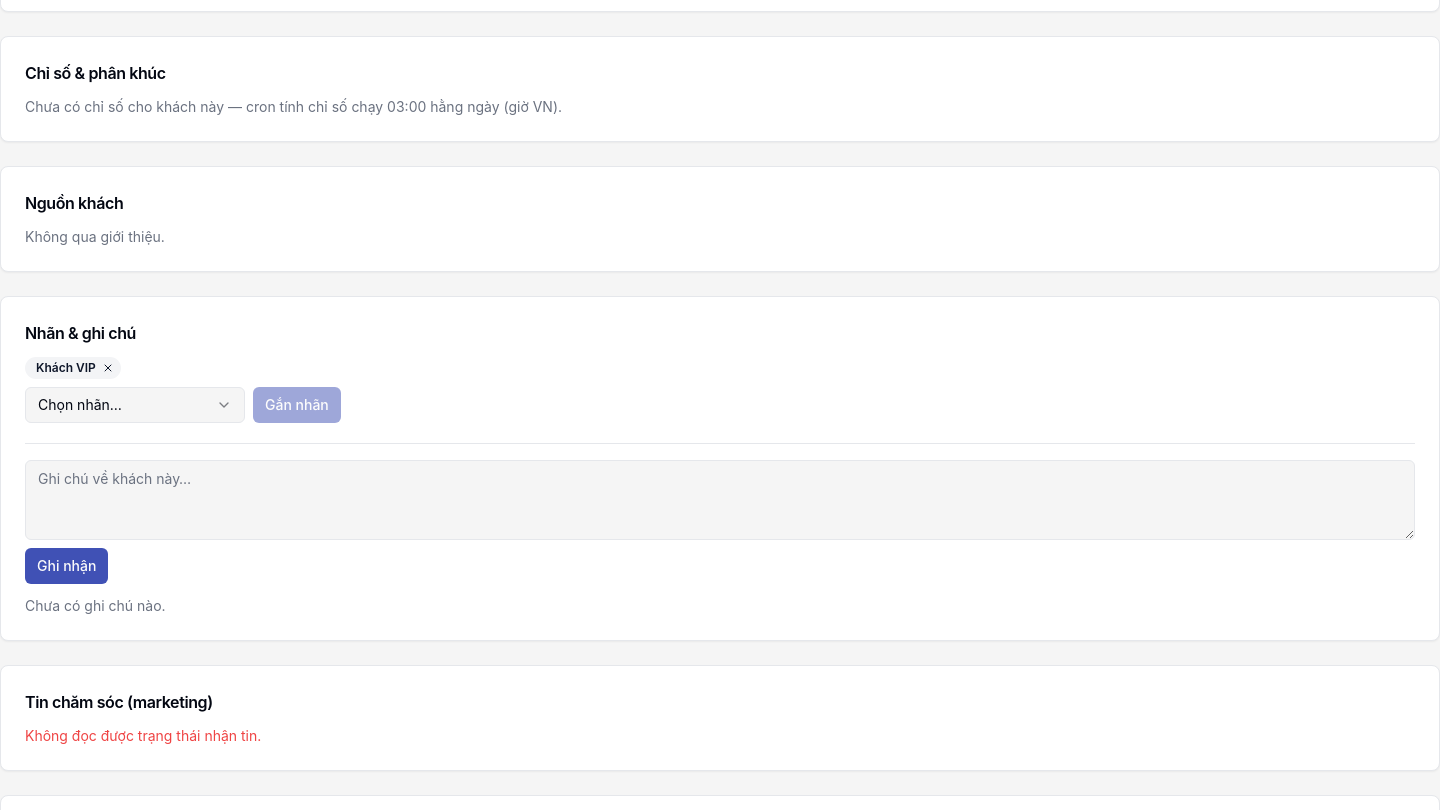
Scenario: /users/detail — khối Nhãn & ghi chú (GĐ2) › nhãn đã gắn không còn trong danh mục chọn
(page scrolled)
Expected: the text "Khách VIP" is shown, x1=25 y1=357 x2=121 y2=379
Click the dropdown labelled "Chọn nhãn…".
click(135, 405)  # box x1=25 y1=387 x2=245 y2=423
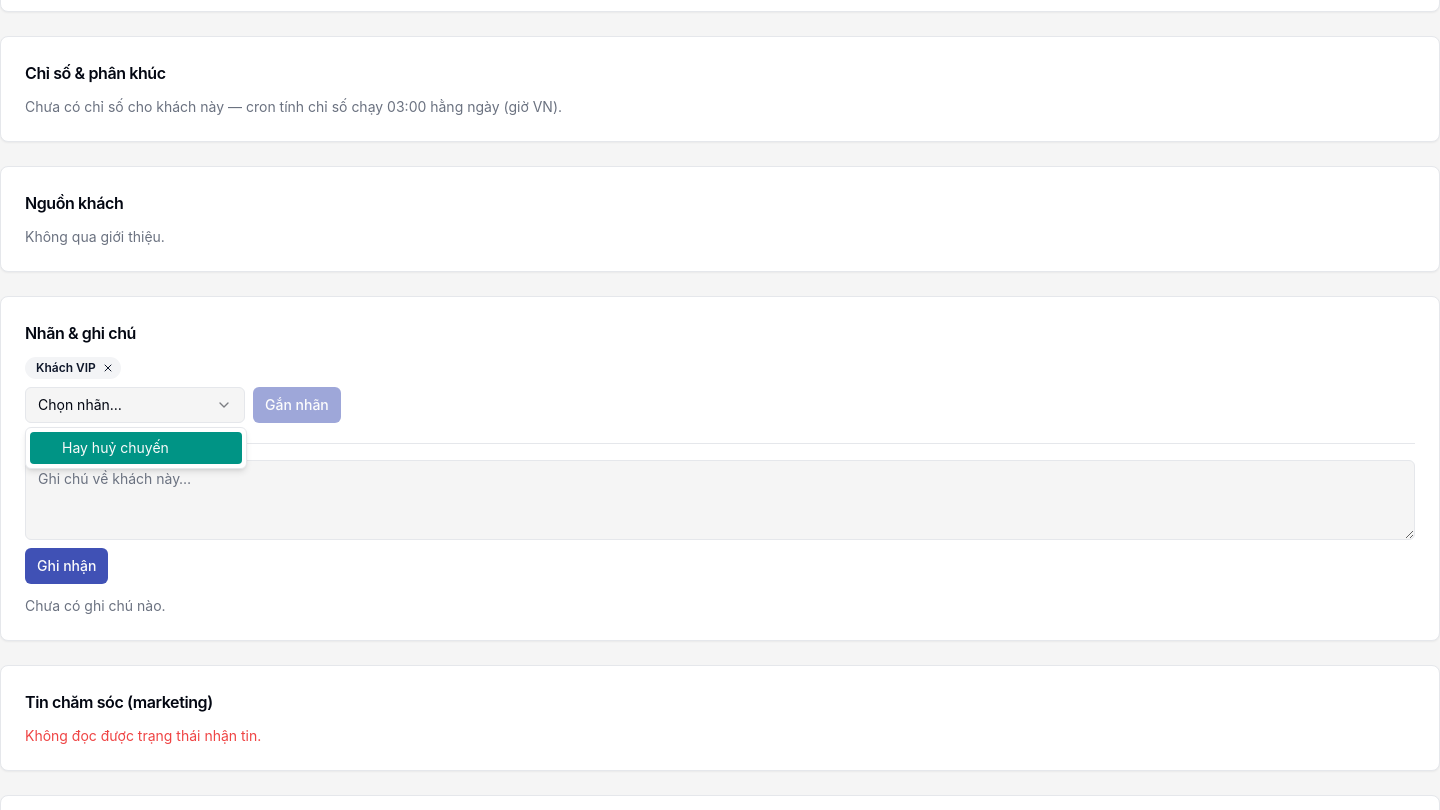
Expected: the option "Hay huỷ chuyến" is shown, x1=30 y1=432 x2=242 y2=464
